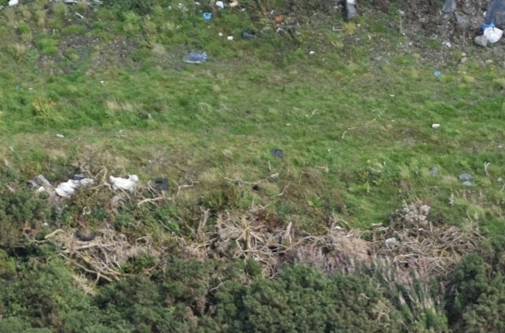scattered_barrel: (23, 157, 183, 209), (176, 1, 289, 69)
white_in_green: (462, 12, 505, 57)
